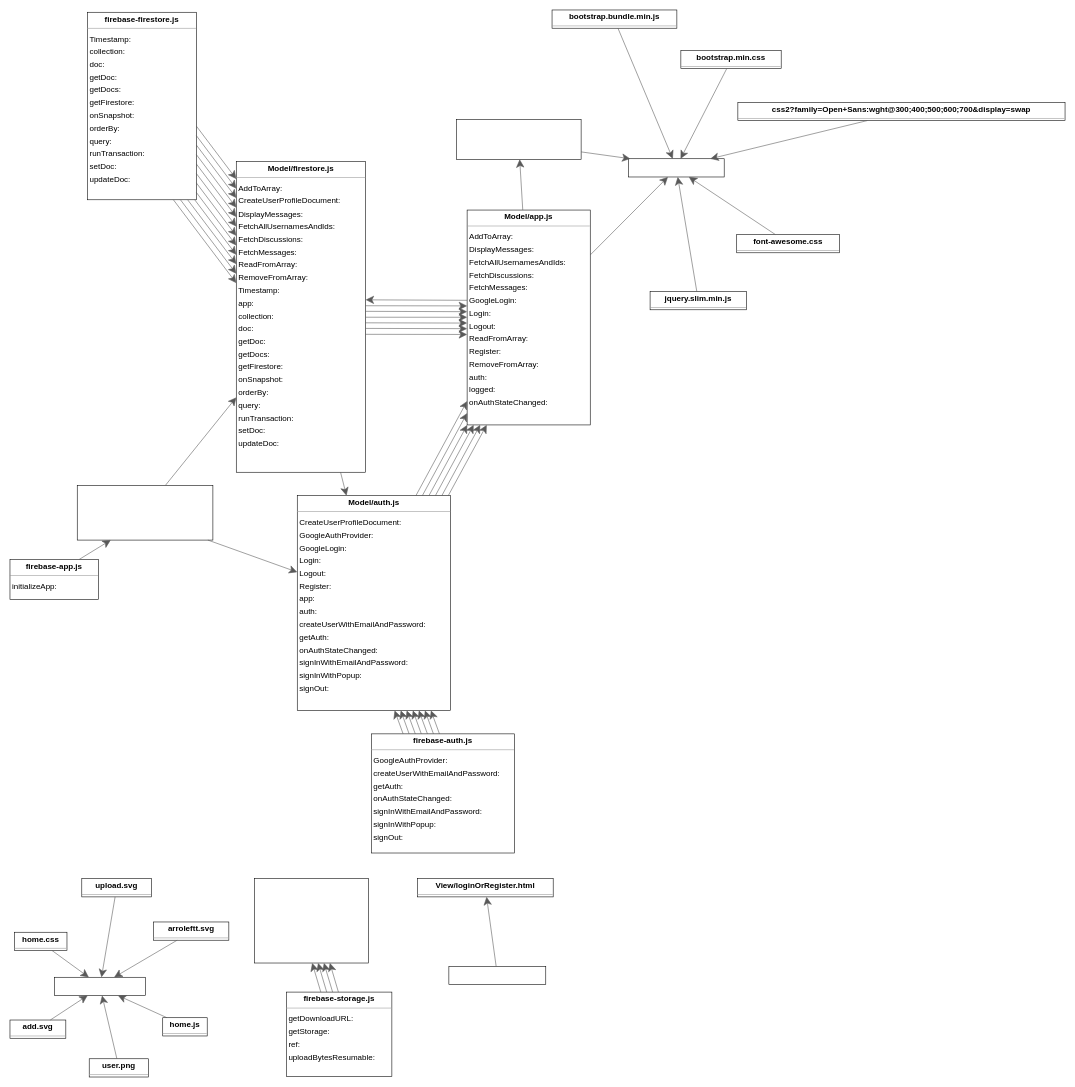
This 1075x1087 diagram has some shape labels left out. The shapes that lost their labels are listed below. From the top down, each one's centre as x and y in pixels, then its label:
(518,139): Controller/navigation.js logged:
(676,167): public/index.html
(145,512): Model/initializeFirebase.js app: initializeApp:
(311,920): Model/storage.js getDownloadURL: getStorage: ref: uploadBytesResumable:
(100,986): View/home.html
(497,975): loginOrRegister.css
